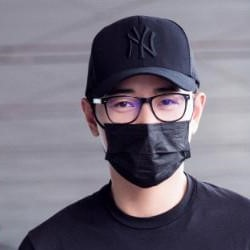mask: (85, 114, 194, 186)
